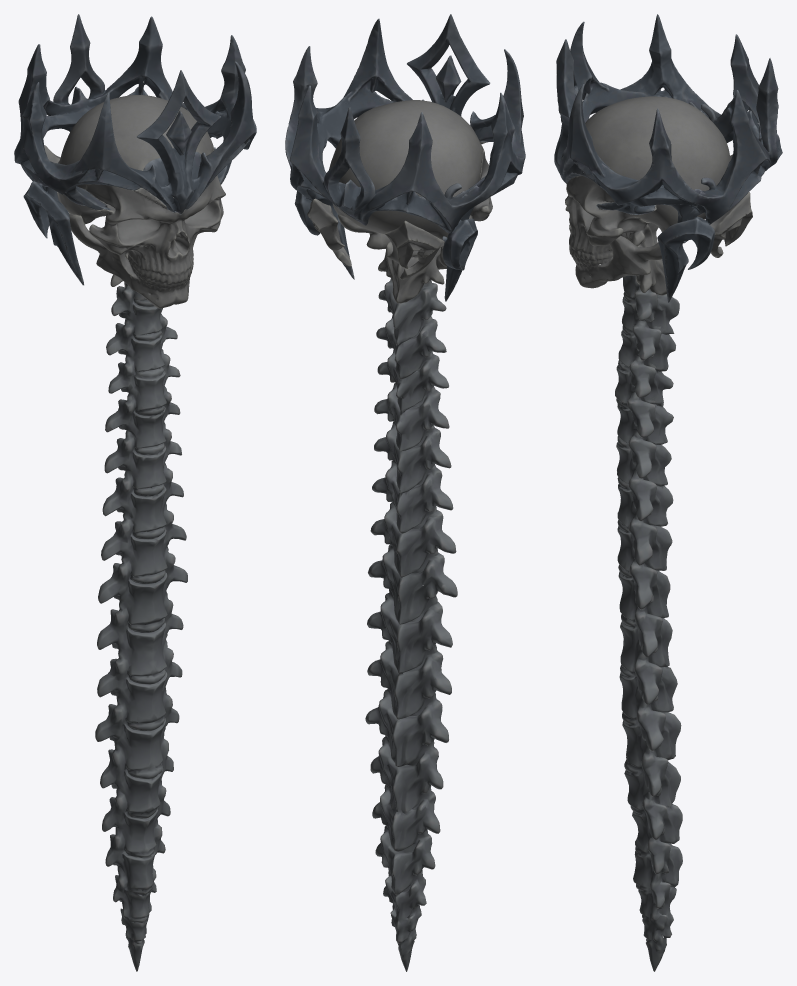
The model's file is blackcrown-skull-desktop.glb.
3 renders of one model, left to right at view 1: azimuth 30°, elevation 25°; view 2: azimuth 150°, elevation 25°; view 3: azimuth 270°, elevation 25°, orthographic.
Visible parts, largest first — view 1: SPINE, CROWN, SKULL_FACE, SKULL_CRANIUM; view 2: SPINE, CROWN, SKULL_CRANIUM, SKULL_FACE, SKULL_REAR_LEFT, SKULL_REAR_RIGHT; view 3: SPINE, CROWN, SKULL_CRANIUM, SKULL_FACE, SKULL_REAR_RIGHT.
Part boxes in pixels (x1,y1,x2,y2): SPINE: (95, 283, 187, 971); CROWN: (14, 14, 256, 285); SKULL_FACE: (69, 149, 225, 308); SKULL_CRANIUM: (58, 95, 213, 224); SPINE: (365, 278, 457, 971); CROWN: (285, 14, 525, 301); SKULL_CRANIUM: (329, 100, 483, 239); SKULL_FACE: (338, 142, 492, 303); SKULL_REAR_LEFT: (385, 220, 444, 279); SKULL_REAR_RIGHT: (307, 198, 351, 266); SPINE: (615, 275, 682, 971); CROWN: (554, 14, 782, 302); SKULL_CRANIUM: (585, 96, 730, 232); SKULL_FACE: (565, 175, 666, 295); SKULL_REAR_RIGHT: (710, 192, 752, 257).
Bounding box in the file's own units: 0.0293 × 0.12 × 0.0266.
3 materials, 3 textured.
